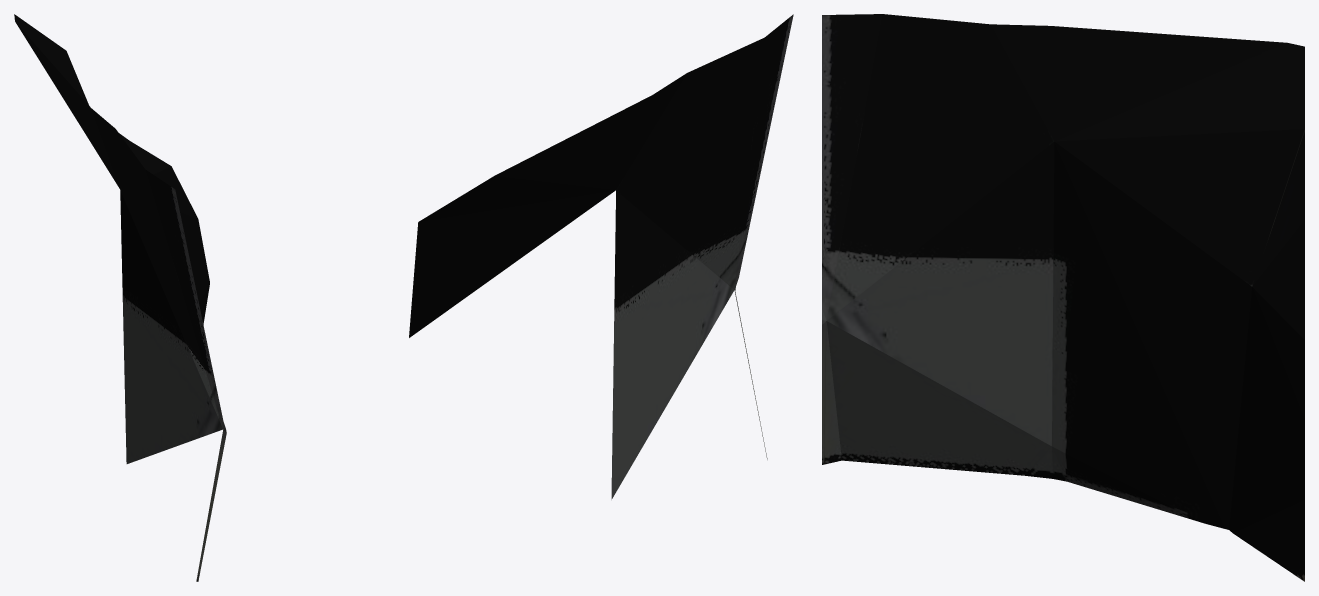
3 views of the same model, side by side, from view 1: azimuth 30°, elevation 25°; view 2: azimuth 150°, elevation 25°; view 3: azimuth 270°, elevation 25° (orthographic). The views are drawn at different scales.
Bounding box in the file's own units: 1.13 × 1.67 × 1.67.
Materials: 3 (3 with a texture image).
